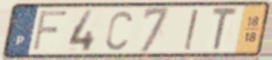4: (66, 8, 99, 54)
7: (141, 5, 172, 55)
C: (104, 9, 134, 52)
F: (30, 9, 71, 54)
I: (182, 8, 200, 52)
T: (210, 6, 240, 53)
